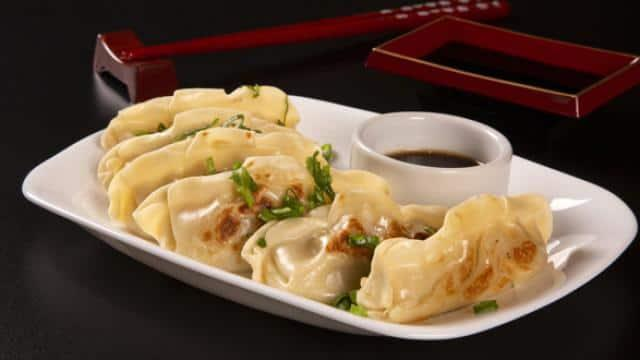momos: (241, 170, 445, 303), (358, 194, 552, 322), (108, 128, 318, 223), (168, 158, 311, 272), (101, 86, 291, 149), (196, 108, 203, 111)
